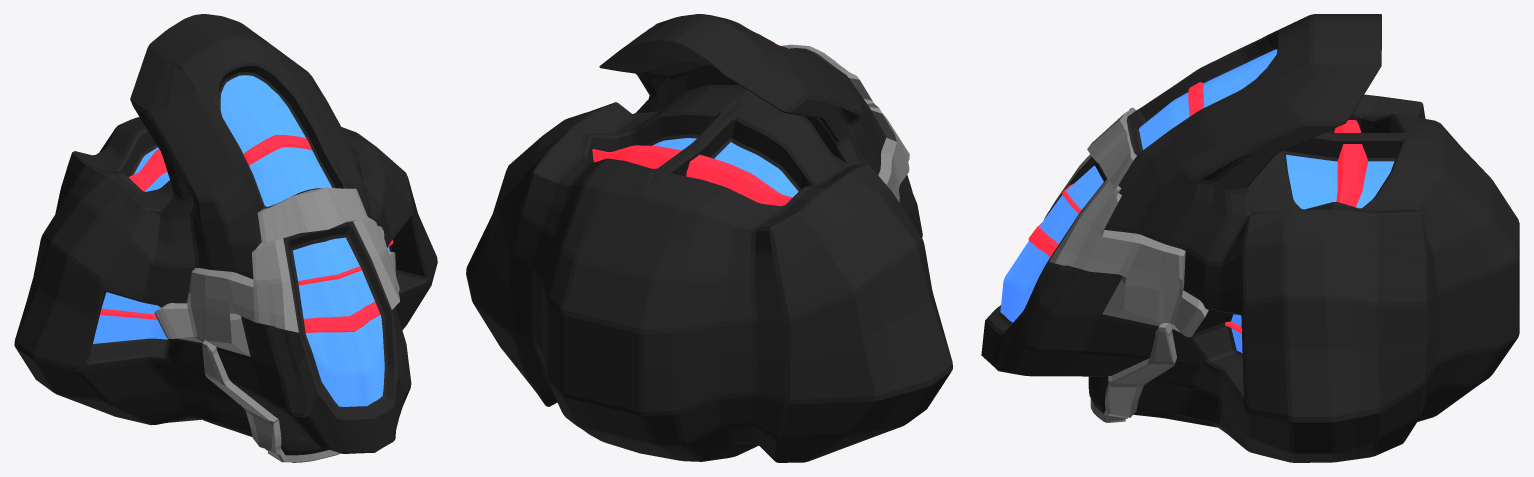
File: zako1.fbx
The picture shows the model from 3 angles, left to right: view 1: azimuth 30°, elevation 25°; view 2: azimuth 150°, elevation 25°; view 3: azimuth 270°, elevation 25°; orthographic projection. The views are drawn at different scales.
Visible parts, largest first — view 1: Cube; view 2: Cube; view 3: Cube.
Part boxes in pixels (x1,y1,x2,y2): Cube: (14,14,437,462); Cube: (466,14,952,462); Cube: (981,14,1519,462).
Bounding box in the file's own units: 393 × 327 × 410.
